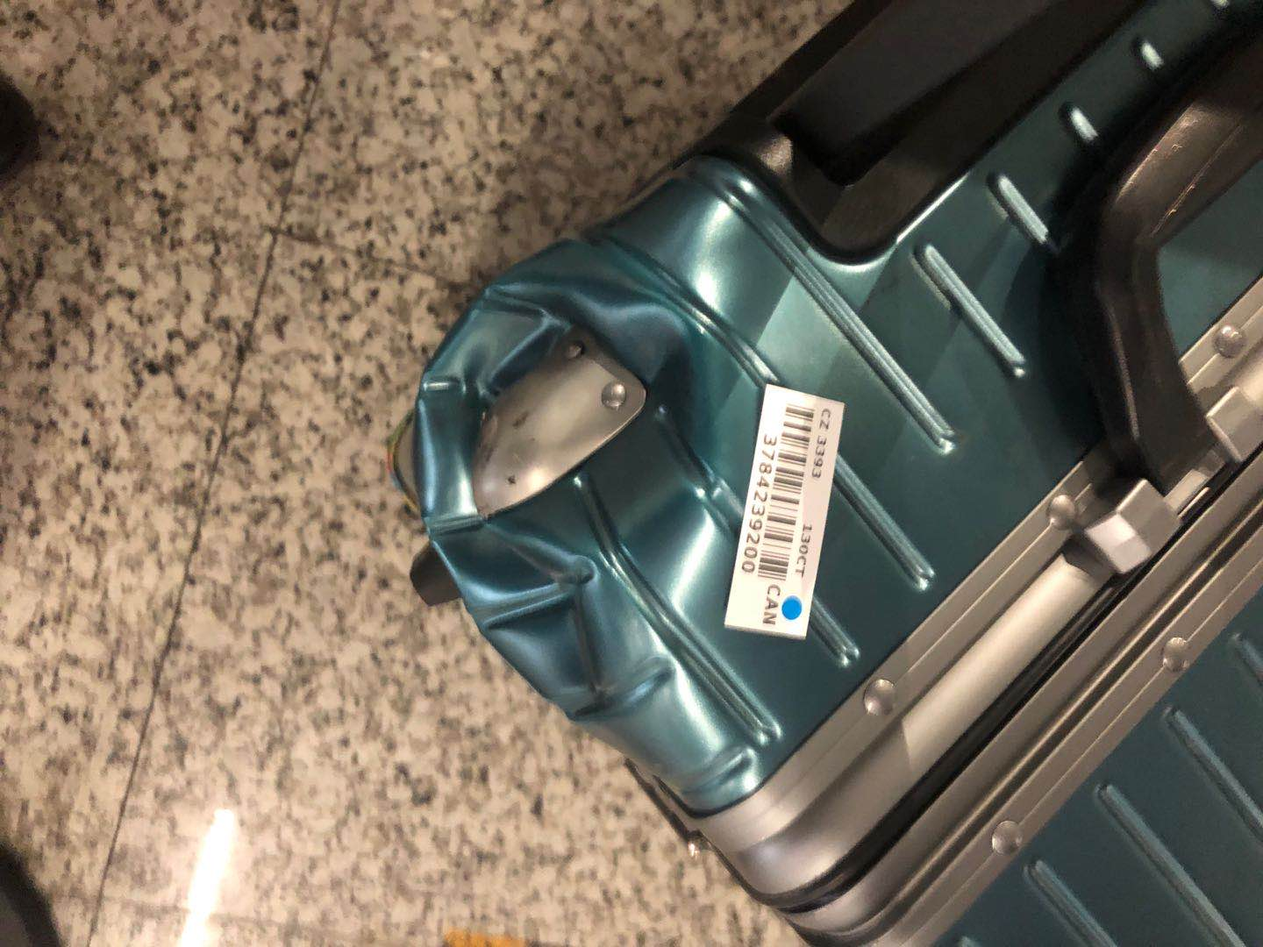rupture: (416, 216, 711, 715)
